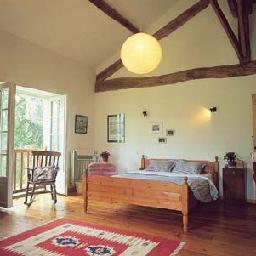Cama: (82, 163, 216, 220)
